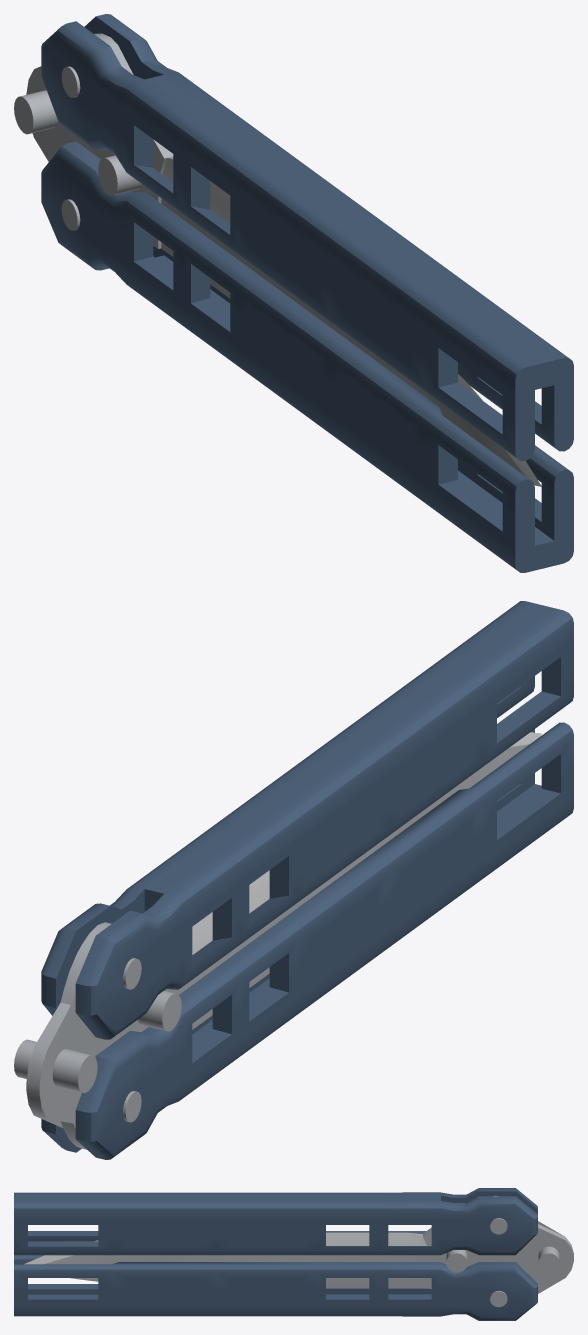
Rendered from balisong.glb.
3 views of the same model, one above another, from view 1: azimuth 30°, elevation 25°; view 2: azimuth 150°, elevation 25°; view 3: azimuth 270°, elevation 25° (orthographic). The views are drawn at different scales.
Visible parts, largest first — view 1: bite_mesh, safe_mesh, blade_mesh, blade_mesh.001; view 2: bite_mesh, safe_mesh, blade_mesh, blade_mesh.001; view 3: bite_mesh, safe_mesh, blade_mesh, blade_mesh.001.
Boxes of the visible parts, left/top/right/bottom form: bite_mesh: left=41, top=14, right=573, bottom=460; safe_mesh: left=41, top=141, right=573, bottom=572; blade_mesh: left=14, top=33, right=525, bottom=476; blade_mesh.001: left=162, top=158, right=541, bottom=486; bite_mesh: left=41, top=601, right=573, bottom=1039; safe_mesh: left=41, top=722, right=573, bottom=1159; blade_mesh: left=14, top=744, right=529, bottom=1149; blade_mesh.001: left=192, top=732, right=541, bottom=954; bite_mesh: left=14, top=1188, right=537, bottom=1255; safe_mesh: left=14, top=1255, right=537, bottom=1320; blade_mesh: left=44, top=1195, right=573, bottom=1307; blade_mesh.001: left=24, top=1232, right=426, bottom=1264.
Bounding box in the file's own units: 0.0096 × 0.0325 × 0.1328.
